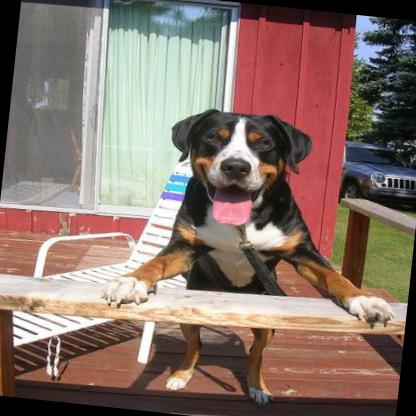Greater_Swiss_Mountain_dog: (85, 93, 414, 416)
